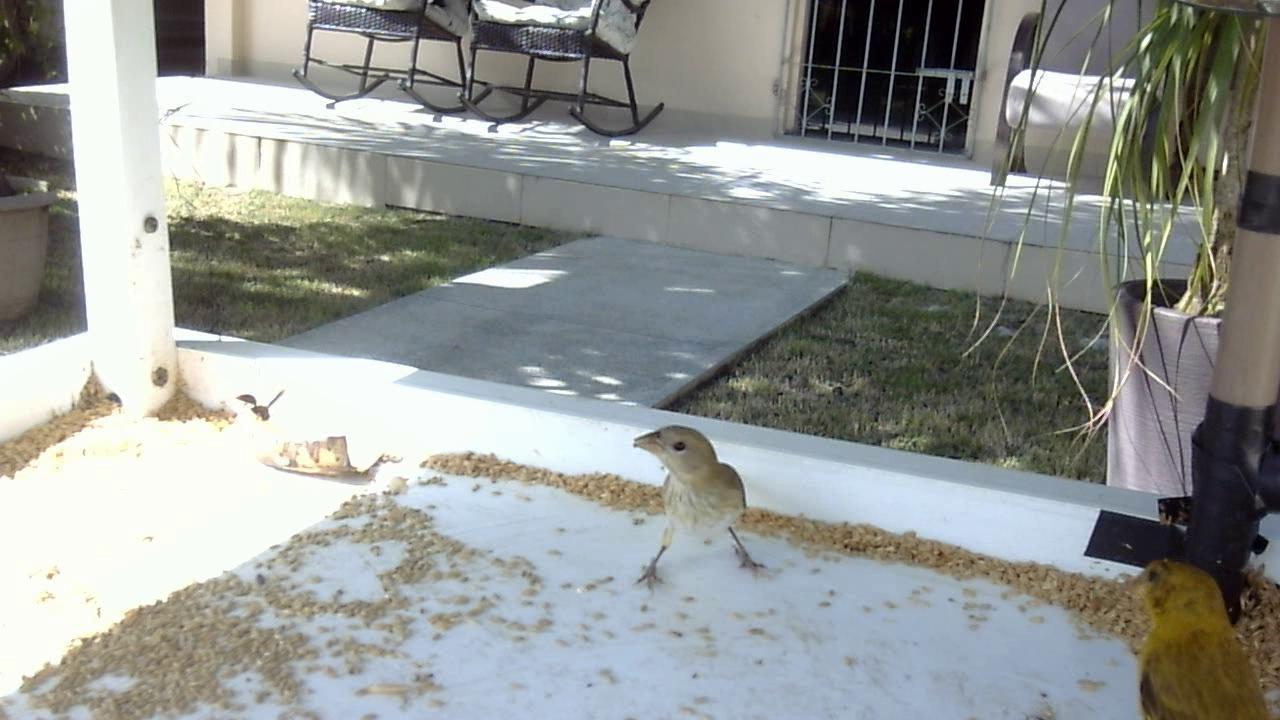canario_do_amazonas: (621, 423, 772, 593), (1119, 556, 1275, 720)
